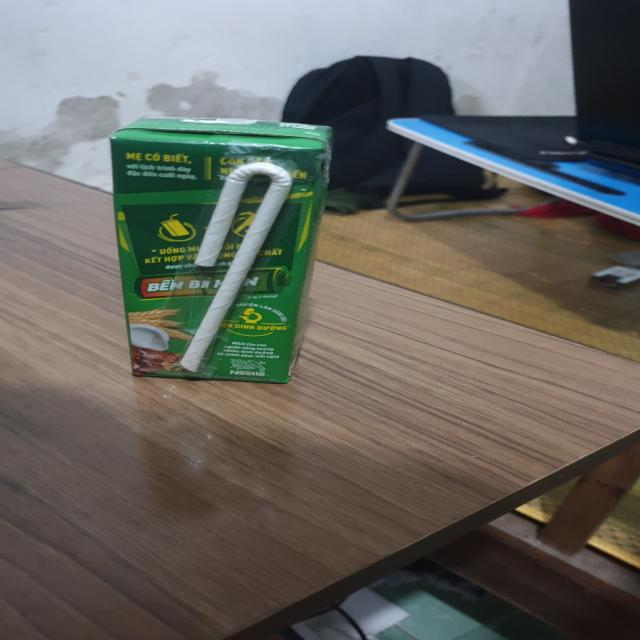Milo: (108, 120, 340, 387)
